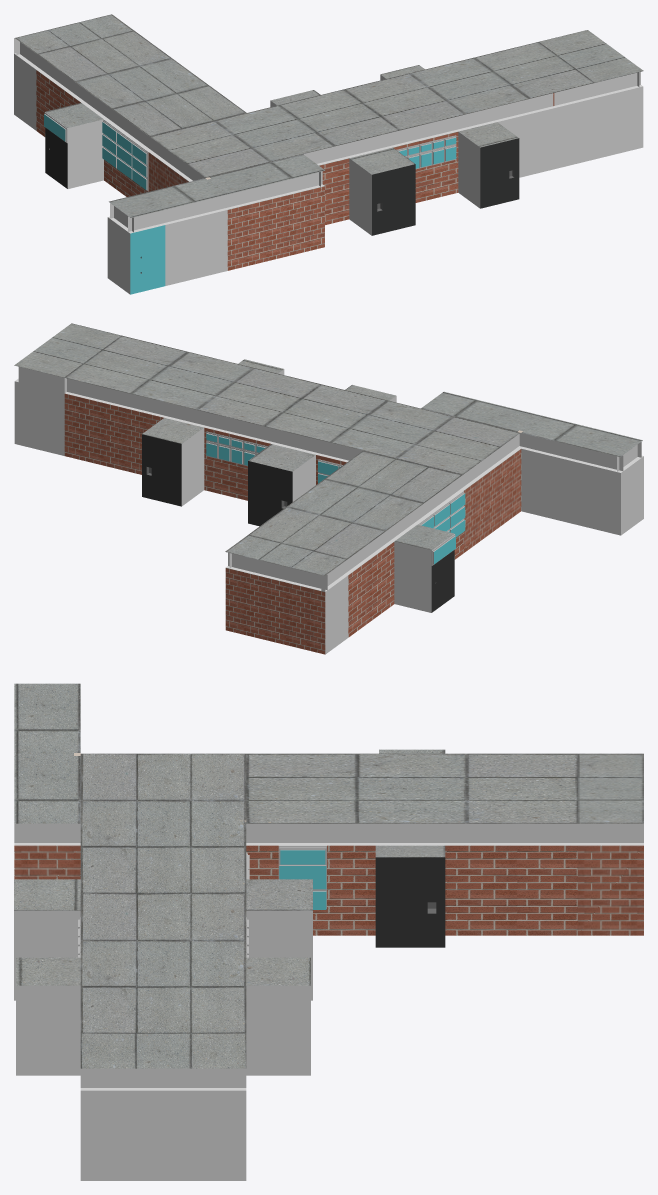
Rendered from PasilloTIC1.fbx.
The picture shows the model from 3 angles, top to bottom: view 1: azimuth 30°, elevation 25°; view 2: azimuth 150°, elevation 25°; view 3: azimuth 270°, elevation 25°; orthographic projection. The views are drawn at different scales.
Parts seen in each view (by area): view 1: Paredes, Techo; view 2: Paredes, Techo; view 3: Techo, Paredes.
Boxes of the visible parts, x1,y1,x2,y2 form: Paredes: (14,38,643,294); Techo: (15,14,643,217); Paredes: (14,366,643,654); Techo: (14,323,642,575); Techo: (14,683,643,1068); Paredes: (14,753,643,1180).
Size of the model in its own units: 2753 by 375 by 1901.
